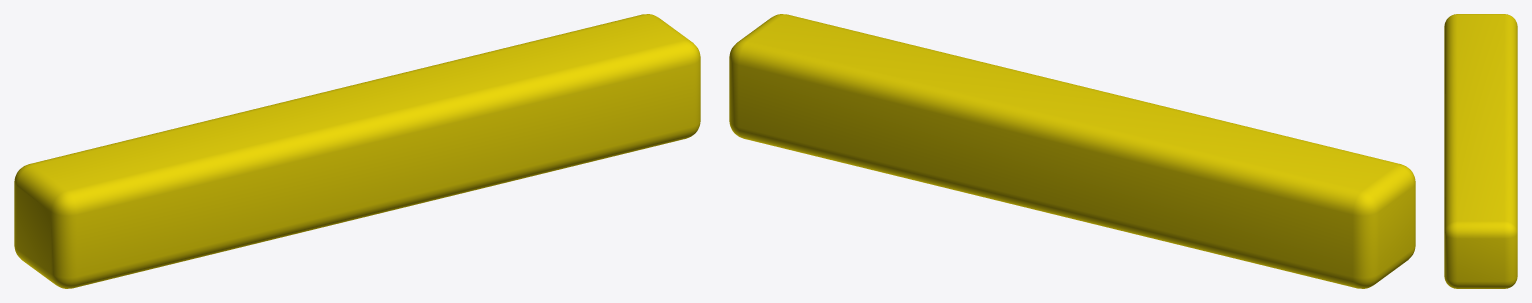
The picture shows the model from 3 angles, left to right: view 1: azimuth 30°, elevation 25°; view 2: azimuth 150°, elevation 25°; view 3: azimuth 270°, elevation 25°; orthographic projection. The views are drawn at different scales.
Visible parts, largest first — view 1: 7; view 2: 7; view 3: 7.
Part boxes in pixels (box(x1,y1,x2,y2)): 7: box(14, 14, 700, 288); 7: box(729, 14, 1415, 288); 7: box(1444, 14, 1517, 288).
Size of the model in its own units: 699 by 100 by 100.
